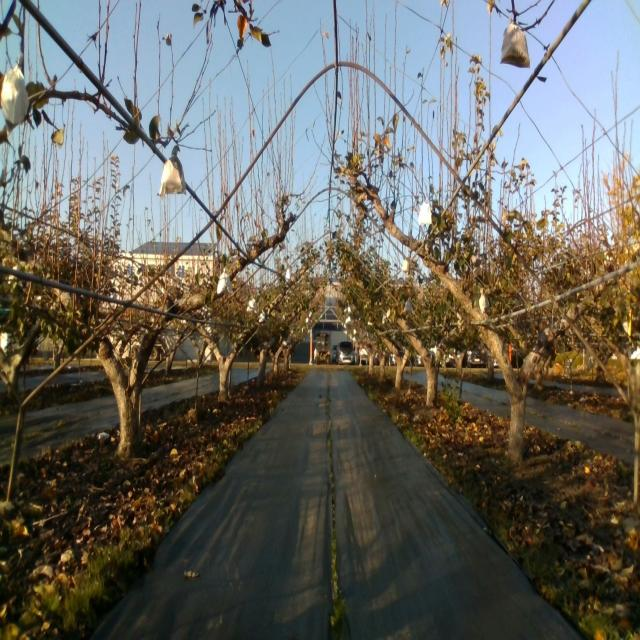pearbags: (0, 49, 29, 124), (500, 18, 531, 68), (158, 152, 184, 198), (217, 268, 232, 296), (418, 198, 432, 226), (479, 287, 489, 314), (246, 296, 256, 314)
